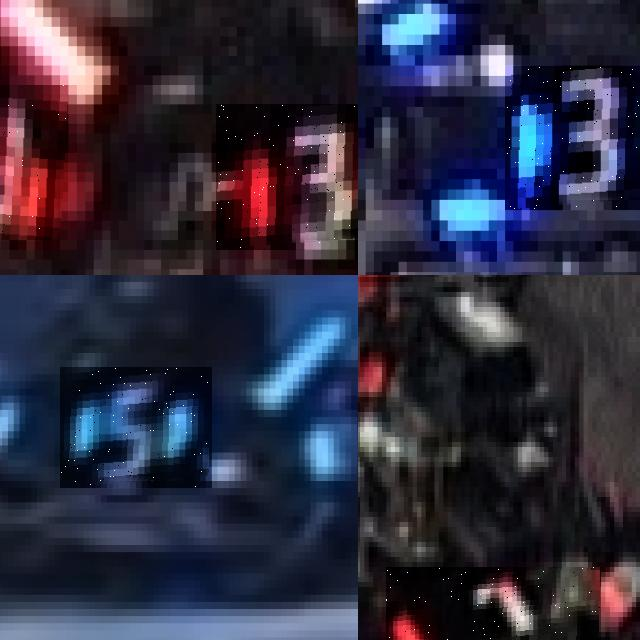B3: (505, 65, 640, 210)
B5: (60, 367, 212, 488)
R1: (386, 567, 601, 640)
R3: (216, 104, 358, 249), (0, 85, 68, 240)
